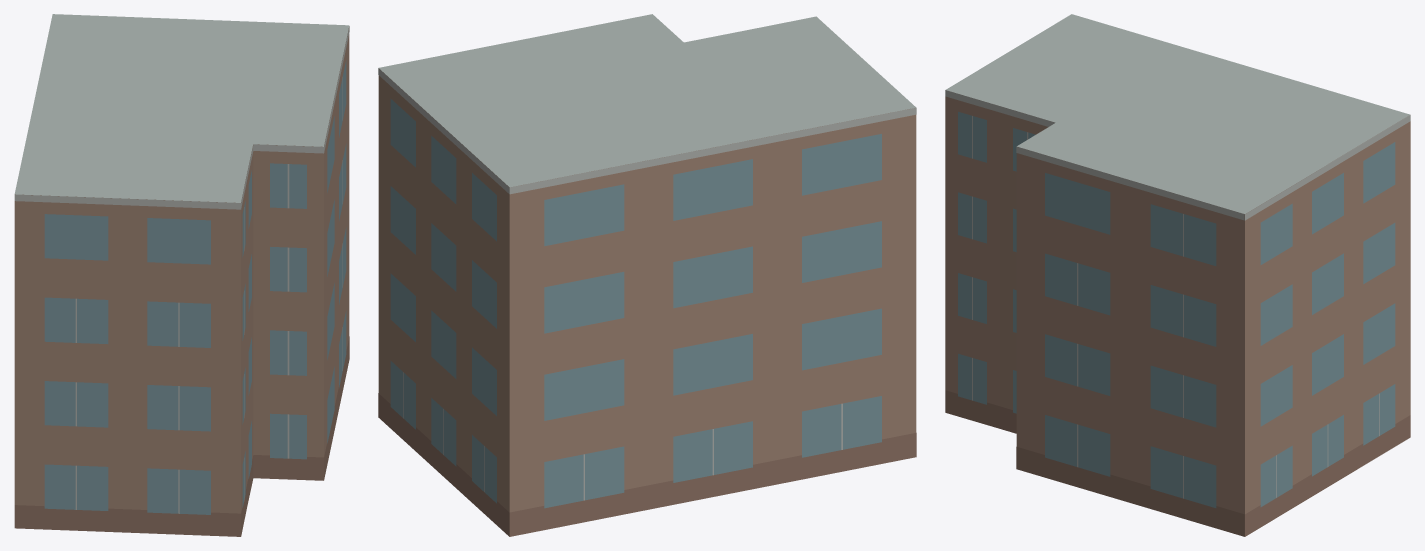
File: residential-036d9822-9bc3-4dd8-aa01-3334ad424c72.glb
The picture shows the model from 3 angles, left to right: view 1: azimuth 30°, elevation 25°; view 2: azimuth 150°, elevation 25°; view 3: azimuth 270°, elevation 25°; orthographic projection. The views are drawn at different scales.
Visible parts, largest first — view 1: residential-036d9822-9bc3-4dd8-aa01-3334ad424c72.tmp; view 2: residential-036d9822-9bc3-4dd8-aa01-3334ad424c72.tmp; view 3: residential-036d9822-9bc3-4dd8-aa01-3334ad424c72.tmp.
Boxes of the visible parts, x1=… form: residential-036d9822-9bc3-4dd8-aa01-3334ad424c72.tmp: x1=14, y1=14, x2=349, y2=536; residential-036d9822-9bc3-4dd8-aa01-3334ad424c72.tmp: x1=378, y1=14, x2=916, y2=536; residential-036d9822-9bc3-4dd8-aa01-3334ad424c72.tmp: x1=945, y1=14, x2=1410, y2=536.
Size of the model in its own units: 16.24 by 12.2 by 15.95.
